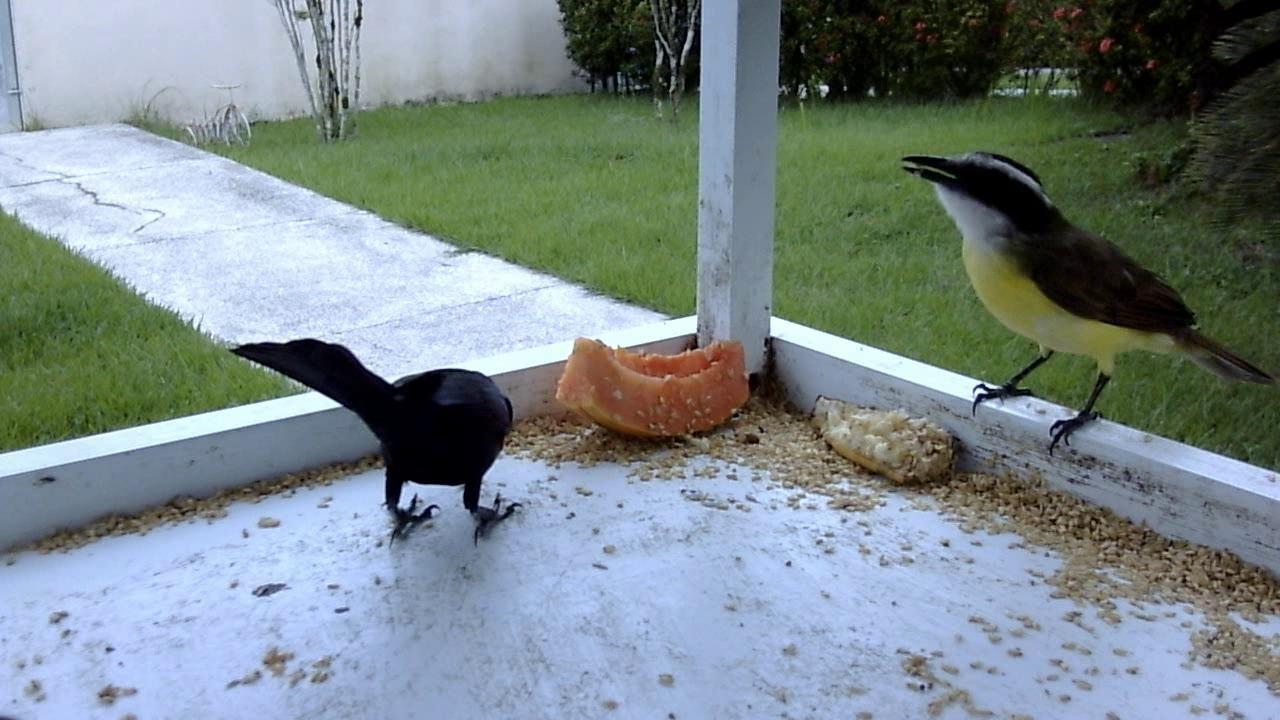bem_te_vi: (887, 135, 1275, 474)
chupim: (219, 311, 532, 557)
